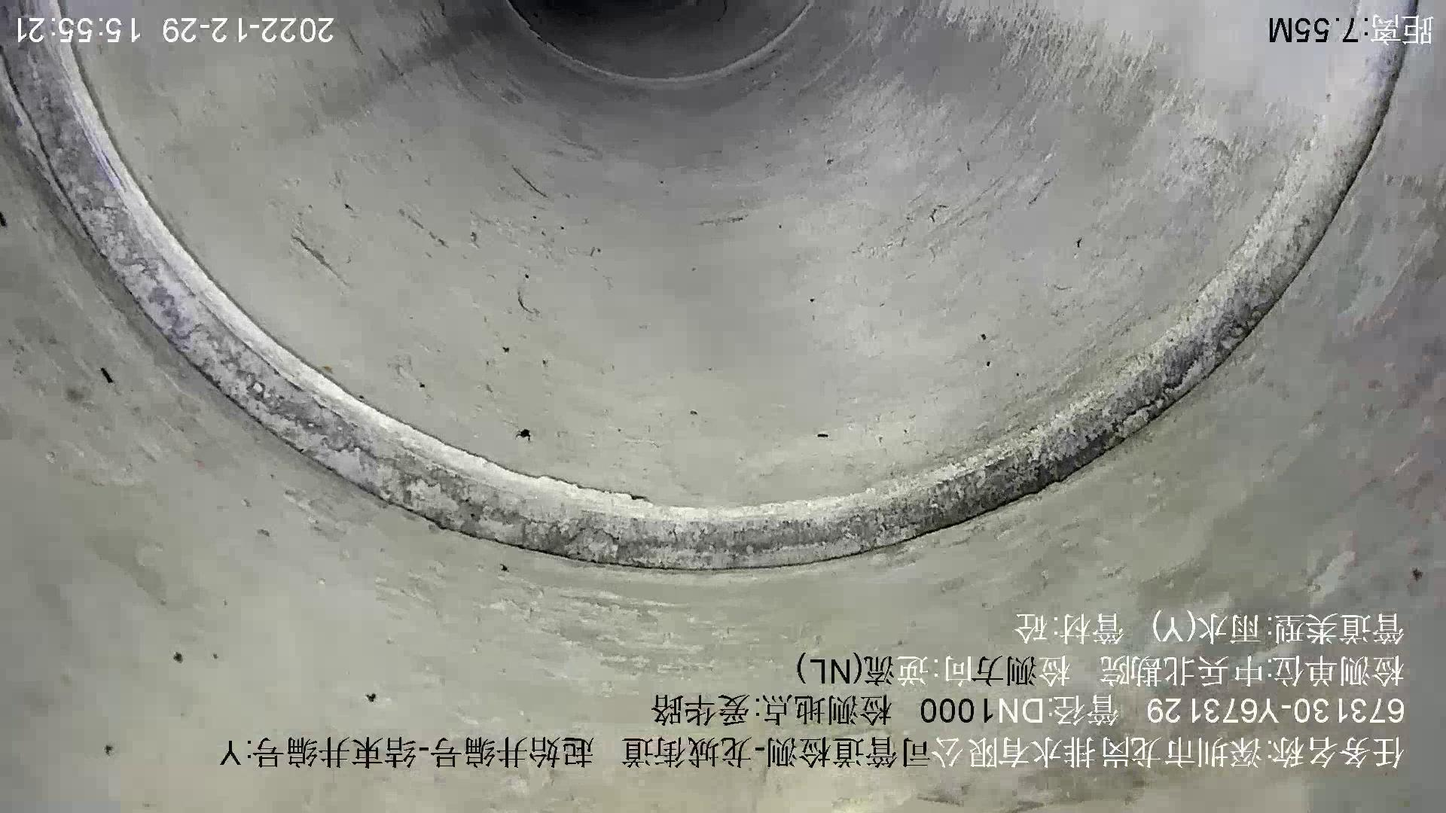CKTJ: (1, 1, 1431, 571)
